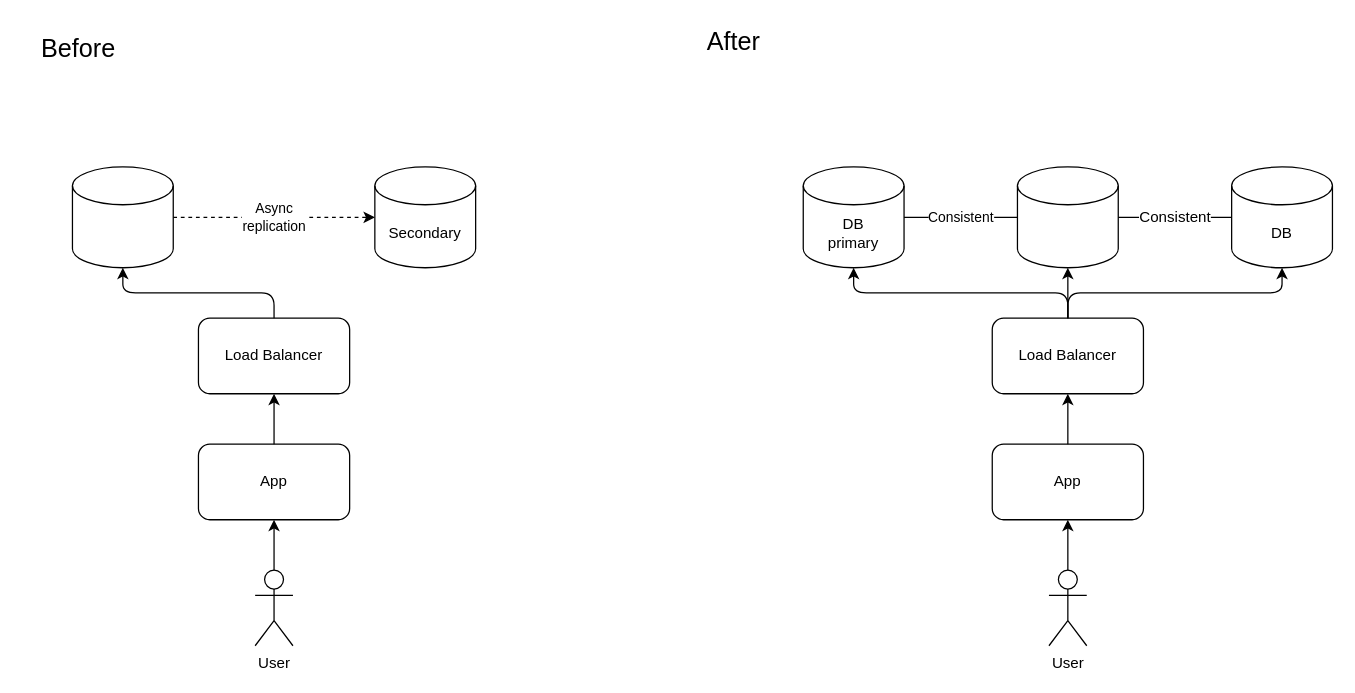
This 1355x693 diagram has some shape labels left out. Here are the shapes that lost their labels. From the top down, the centre of each, then its label:
the point at 122,217: Primary
the point at 1067,217: DB secondary
